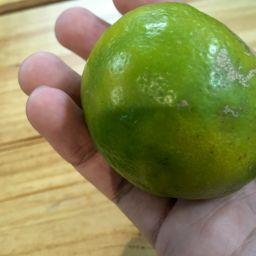Unripe: (84, 4, 256, 198)
